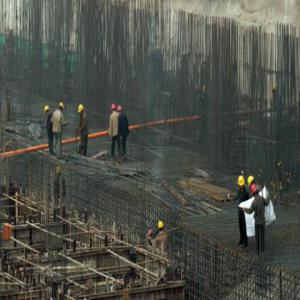red: (251, 186, 259, 198), (118, 104, 123, 114), (111, 103, 116, 112)
yellow: (248, 175, 256, 189), (239, 176, 245, 190), (159, 220, 165, 233), (78, 104, 85, 115), (44, 105, 50, 116), (59, 103, 65, 111)
